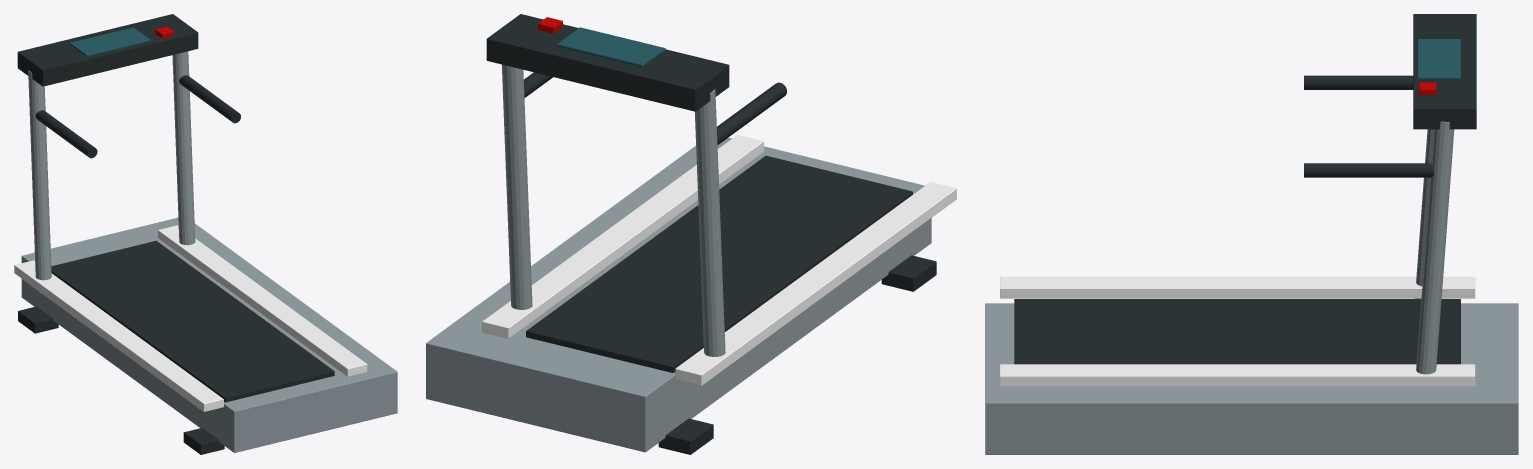
Rendered from source-edit.glb.
The picture shows the model from 3 angles, left to right: view 1: azimuth 30°, elevation 25°; view 2: azimuth 150°, elevation 25°; view 3: azimuth 270°, elevation 25°; orthographic projection. The views are drawn at different scales.
Visible parts, largest first — view 1: Belt, Base, Console, Side_Rail, Side_Rail.001, Upright, Upright.001, Screen, Handrail, Handrail.001, Rubber_Foot, Rubber_Foot.001; view 2: Base, Belt, Console, Side_Rail, Side_Rail.001, Upright, Upright.001, Screen, Handrail, Rubber_Foot, Rubber_Foot.001; view 3: Base, Belt, Side_Rail.001, Side_Rail, Console, Upright.001, Handrail.001, Screen, Handrail, Upright.
Part boxes in pixels (left/top/right/bottom): Belt: left=51, top=240, right=334, bottom=402; Base: left=21, top=217, right=397, bottom=452; Console: left=17, top=14, right=198, bottom=86; Side_Rail: left=14, top=260, right=223, bottom=411; Side_Rail.001: left=158, top=225, right=367, bottom=376; Upright: left=28, top=70, right=51, bottom=293; Upright.001: left=172, top=51, right=195, bottom=245; Screen: left=70, top=27, right=150, bottom=56; Handrail: left=35, top=110, right=97, bottom=158; Handrail.001: left=179, top=75, right=240, bottom=123; Rubber_Foot: left=183, top=428, right=224, bottom=454; Rubber_Foot.001: left=18, top=306, right=58, bottom=333; Base: left=426, top=137, right=931, bottom=452; Belt: left=526, top=155, right=912, bottom=372; Console: left=486, top=14, right=729, bottom=111; Side_Rail: left=675, top=182, right=956, bottom=385; Side_Rail.001: left=482, top=135, right=763, bottom=338; Upright: left=695, top=89, right=726, bottom=375; Upright.001: left=501, top=64, right=532, bottom=309; Screen: left=557, top=27, right=665, bottom=67; Handrail: left=717, top=82, right=786, bottom=144; Rubber_Foot: left=881, top=255, right=936, bottom=291; Rubber_Foot.001: left=658, top=418, right=713, bottom=454; Base: left=985, top=303, right=1518, bottom=454; Belt: left=1014, top=299, right=1460, bottom=364; Side_Rail.001: left=1000, top=364, right=1475, bottom=386; Side_Rail: left=1000, top=276, right=1475, bottom=298; Console: left=1413, top=14, right=1476, bottom=129; Upright.001: left=1416, top=121, right=1454, bottom=374; Handrail.001: left=1304, top=163, right=1433, bottom=177; Screen: left=1417, top=39, right=1460, bottom=79; Handrail: left=1304, top=75, right=1413, bottom=89; Upright: left=1415, top=129, right=1433, bottom=298.
Size of the model in its own units: 0.943 by 1.32 by 1.85.
